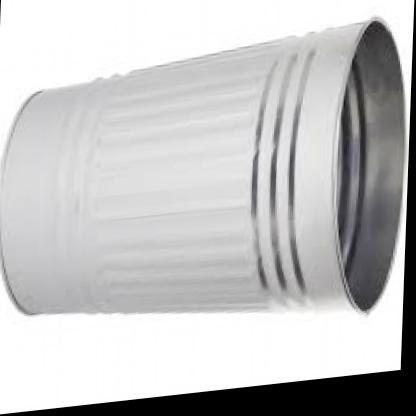Metal: (0, 25, 414, 364)
